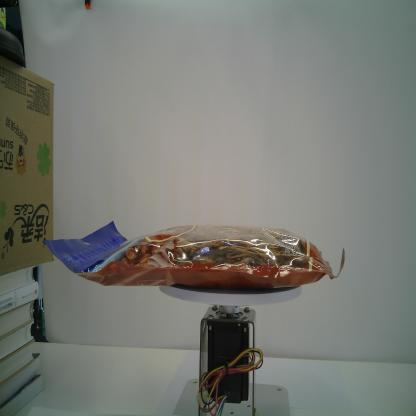Dried Food: (41, 216, 346, 289)
